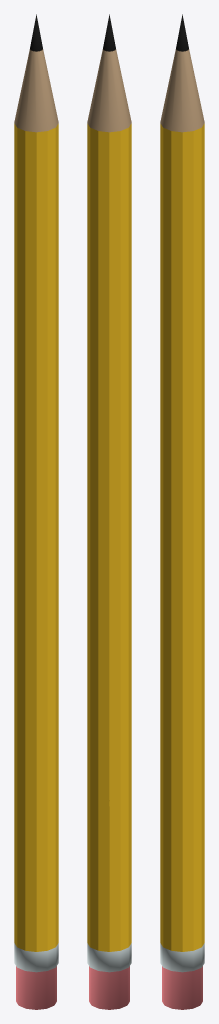
File: f84f292e-9965-4d56-8dfe-1de0d4dc8ec5.glb
3 renders of one model, left to right at view 1: azimuth 90°, elevation 25°; view 2: azimuth 150°, elevation 25°; view 3: azimuth 270°, elevation 25°, orthographic.
Visible parts, largest first — view 1: Pencil; view 2: Pencil; view 3: Pencil.
Part boxes in pixels (x1=…): Pencil: x1=14, y1=14, x2=58, y2=1009; Pencil: x1=87, y1=14, x2=131, y2=1009; Pencil: x1=160, y1=14, x2=204, y2=1009.
Bounding box in the file's own units: 0.01 × 0.2441 × 0.01.
1 material, 1 textured.
